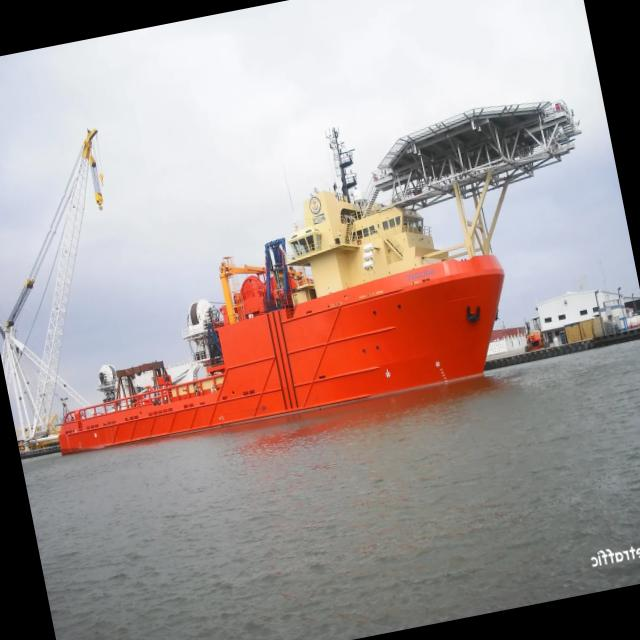Offshore: (60, 101, 580, 453)
